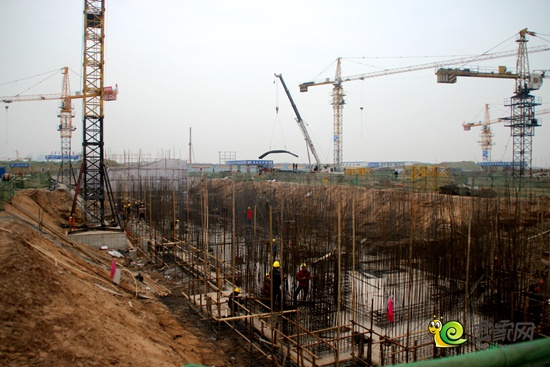yellow: (272, 260, 279, 269), (233, 287, 239, 294)
